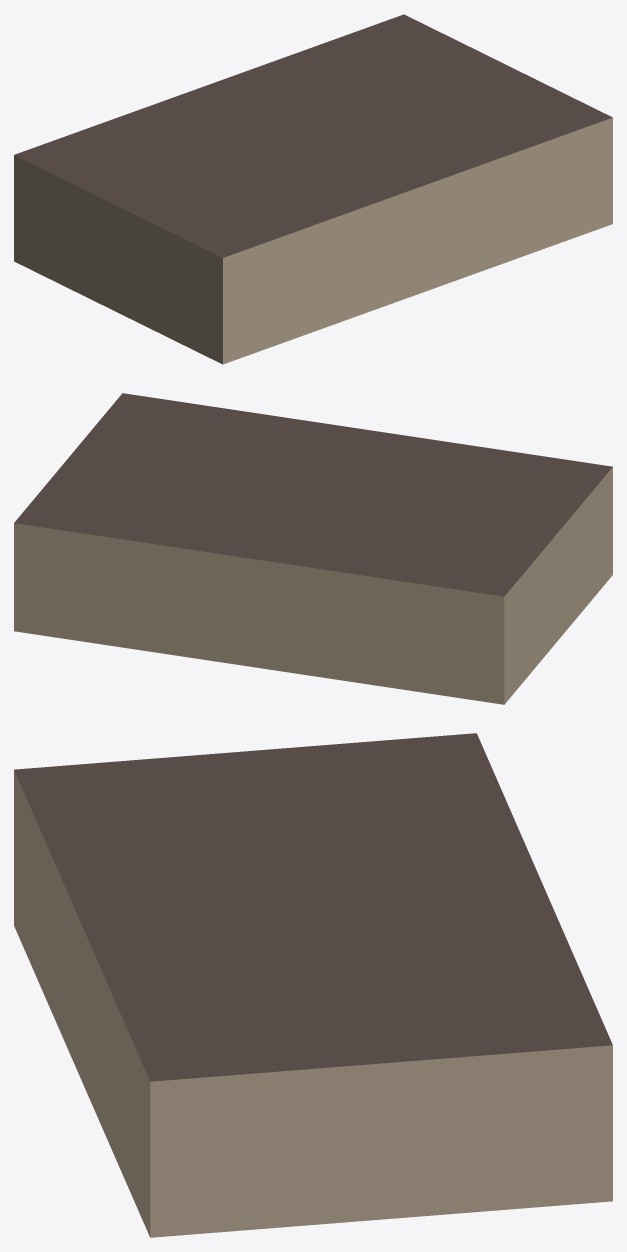
3 views of the same model, one above another, from view 1: azimuth 30°, elevation 25°; view 2: azimuth 150°, elevation 25°; view 3: azimuth 270°, elevation 25° (orthographic). The views are drawn at different scales.
Parts seen in each view (by area): view 1: HP-w859488621; view 2: HP-w859488621; view 3: HP-w859488621.
Boxes of the visible parts, bbox=[...] form: HP-w859488621: bbox=[14, 14, 612, 364]; HP-w859488621: bbox=[14, 393, 612, 704]; HP-w859488621: bbox=[14, 733, 612, 1237].
Bounding box in the file's own units: 43.1 × 9 × 31.3.
